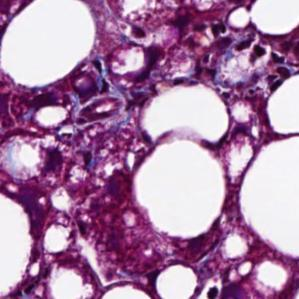inflammation: (195, 18, 271, 81), (35, 141, 92, 180), (137, 38, 172, 78), (194, 278, 225, 299)
